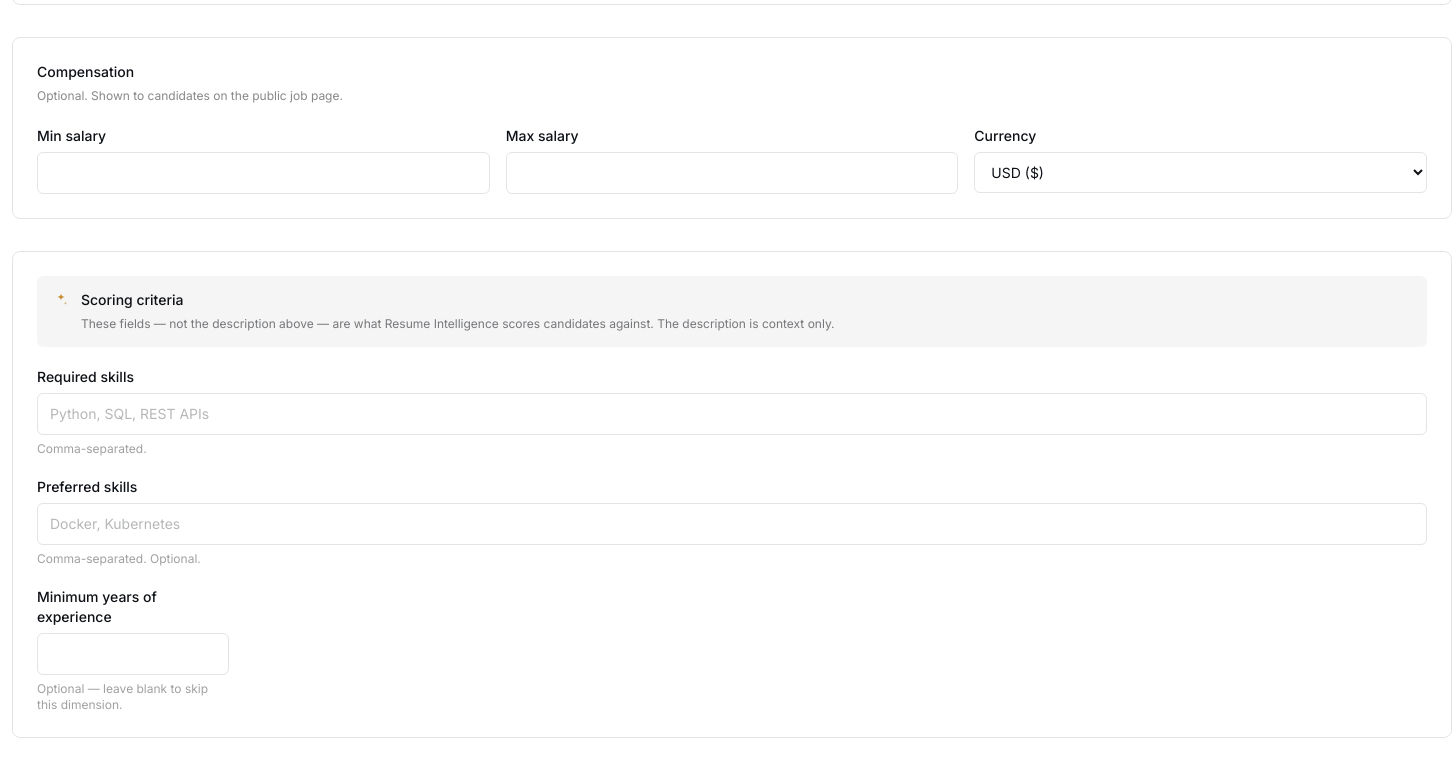
Test: JobCreateForm › previews preferred skills too
The image size is (1452, 766).
(page scrolled)
Type "Python" into the field labelled "Required skills" at {"x": 732, "y": 414}, box [37, 393, 1427, 435]
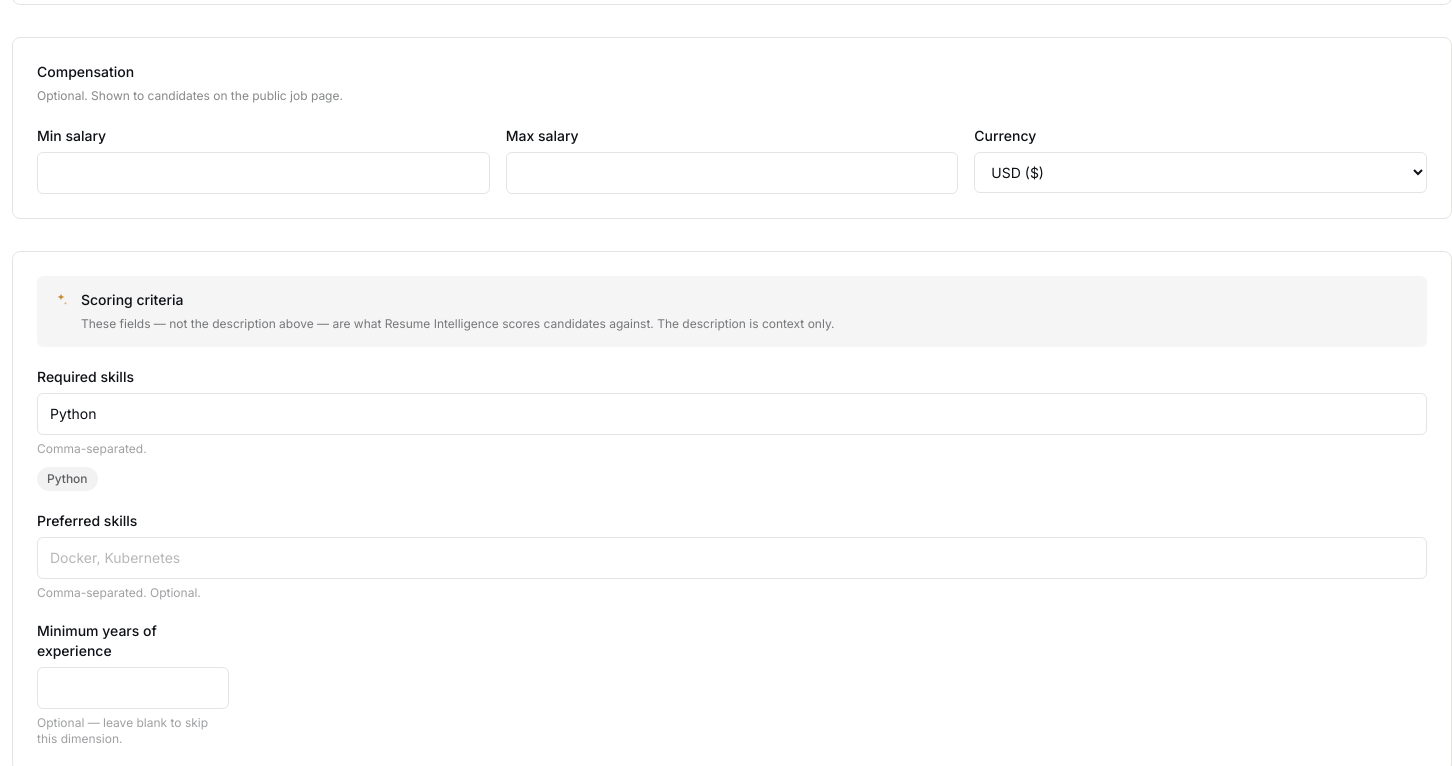
Type "Docker, Go" into the field labelled "Preferred skills" at {"x": 732, "y": 558}, box [37, 537, 1427, 579]
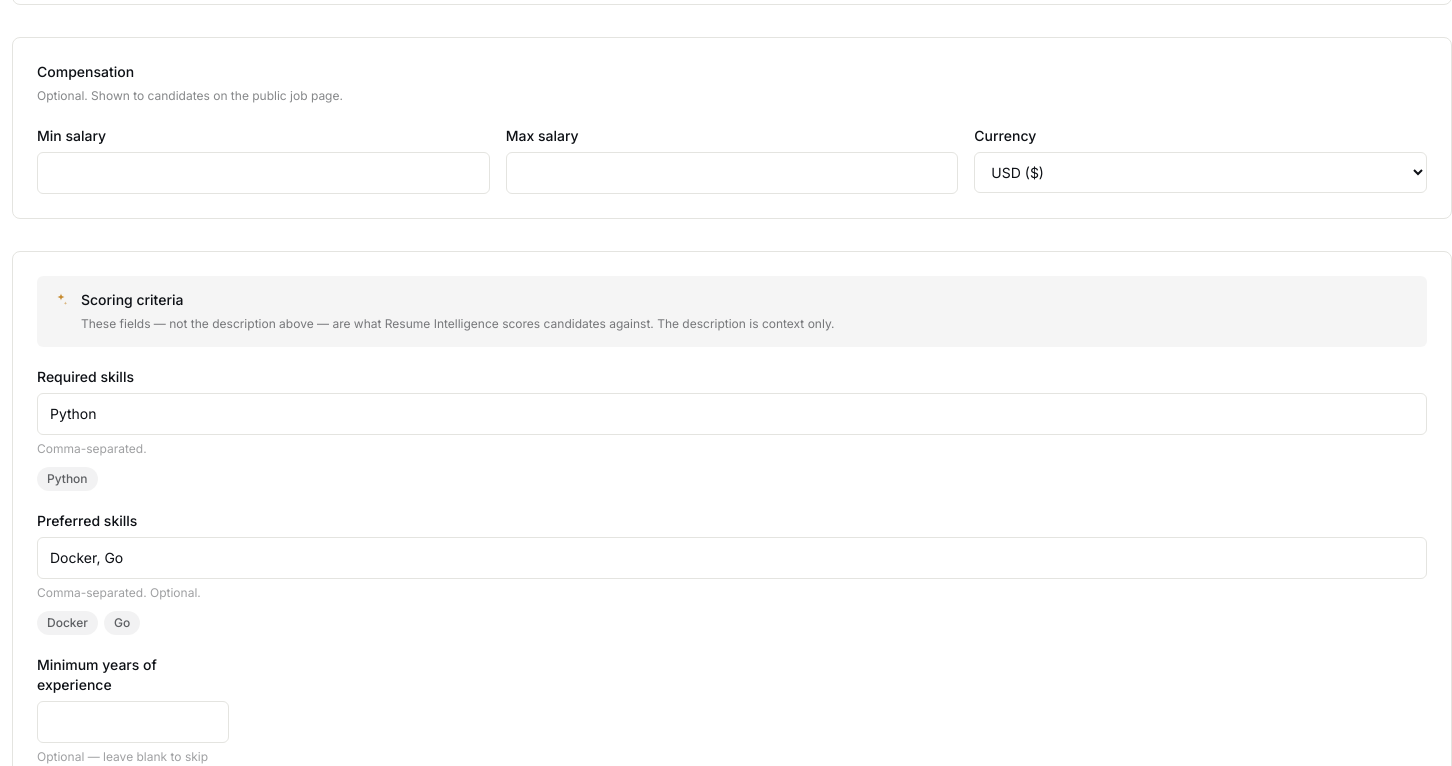
Result: the number of list items is 3 at [37, 467, 98, 491]; [37, 611, 98, 635]; [104, 611, 140, 635]
